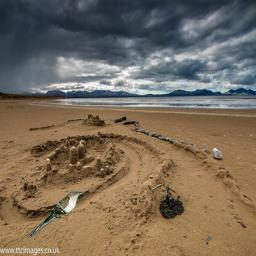Cuckoo: (26, 190, 85, 240)
